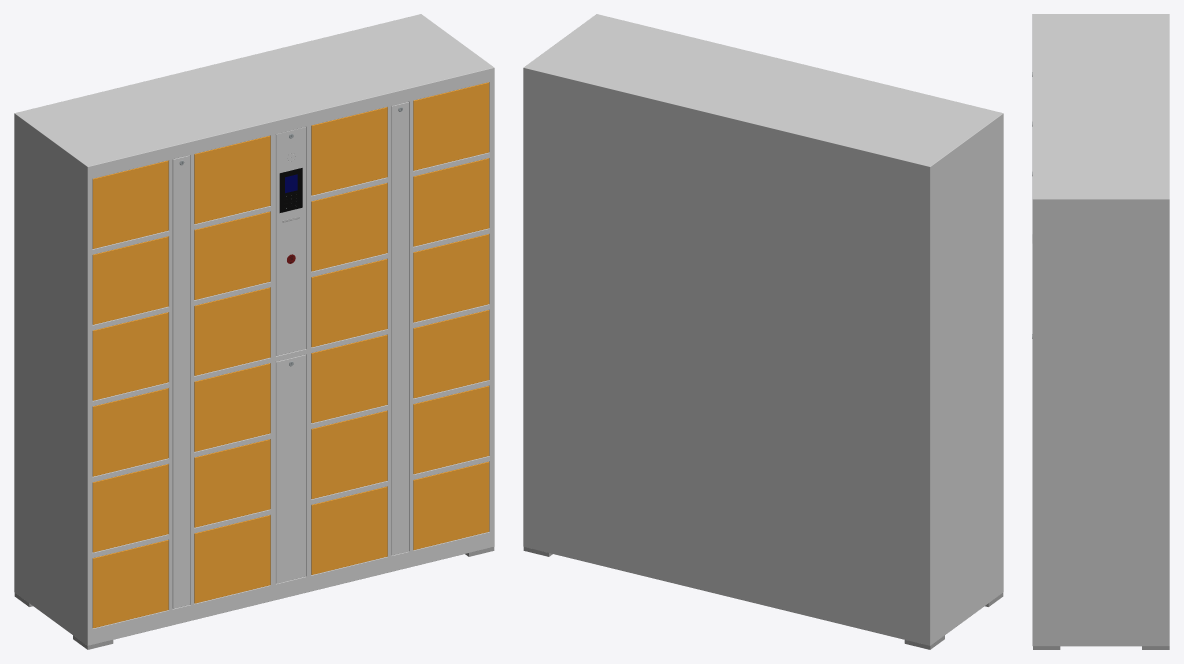
The model's file is cbg.glb.
The picture shows the model from 3 angles, left to right: view 1: azimuth 30°, elevation 25°; view 2: azimuth 150°, elevation 25°; view 3: azimuth 270°, elevation 25°; orthographic projection. The views are drawn at different scales.
Parts seen in each view (by area): view 1: Asset3DLoader.sceneRoot; view 2: Asset3DLoader.sceneRoot; view 3: Asset3DLoader.sceneRoot.
Boxes of the visible parts, x1,y1,x2,y2 form: Asset3DLoader.sceneRoot: [14, 14, 494, 649]; Asset3DLoader.sceneRoot: [523, 14, 1003, 649]; Asset3DLoader.sceneRoot: [1032, 14, 1169, 649].
Bounding box in the file's own units: 1600 × 1815 × 502.
